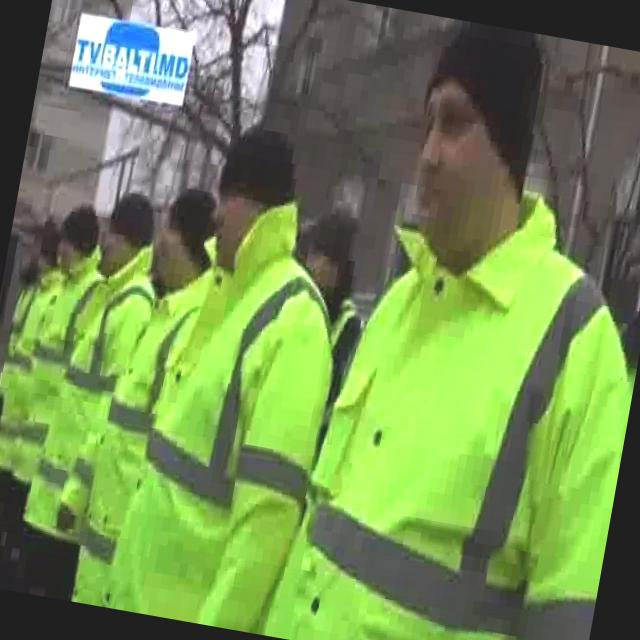vest: (259, 155, 640, 640), (100, 175, 365, 640), (70, 248, 212, 615), (17, 232, 166, 554), (3, 233, 114, 495), (0, 260, 66, 482)
